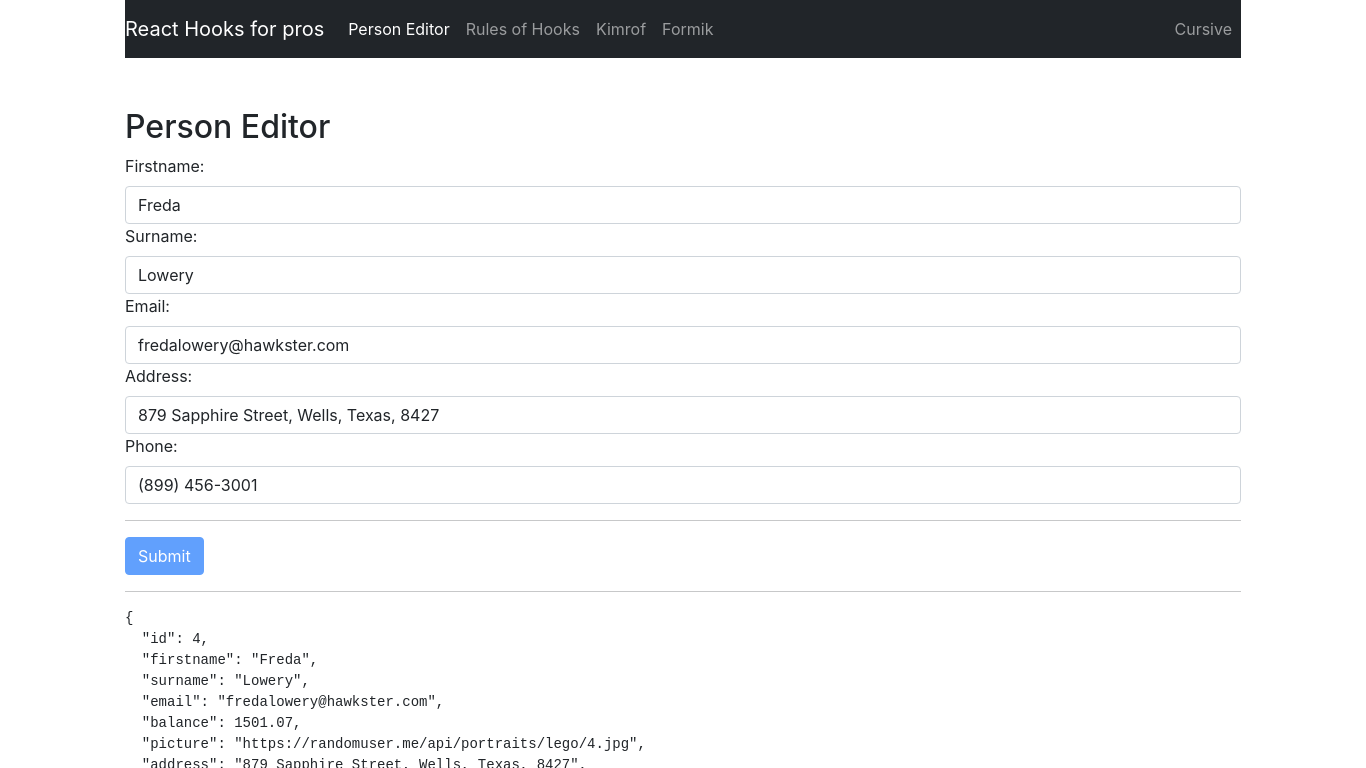
Test: The Person Editor › Can rename to Jack Sparrow
The image size is (1366, 768).
expect the text "\"surname\": \"Lowery\"," is shown: met, box [125,610,646,767]
Replace the text in the field below "Firstname:" with "Jack" at (683, 205), box [125,186,1241,224]
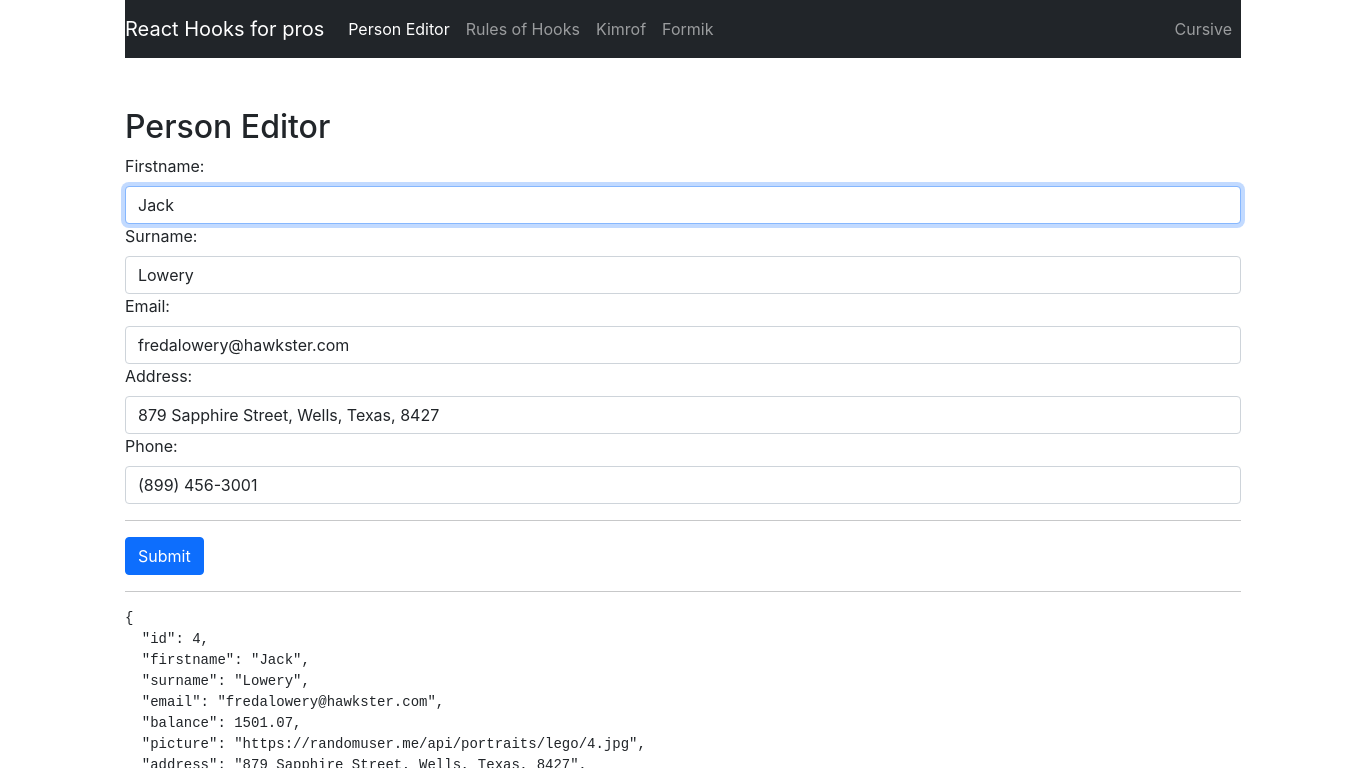
Replace the text in the field below "Surname:" with "Sparrow" at (683, 275), box [125,256,1241,294]
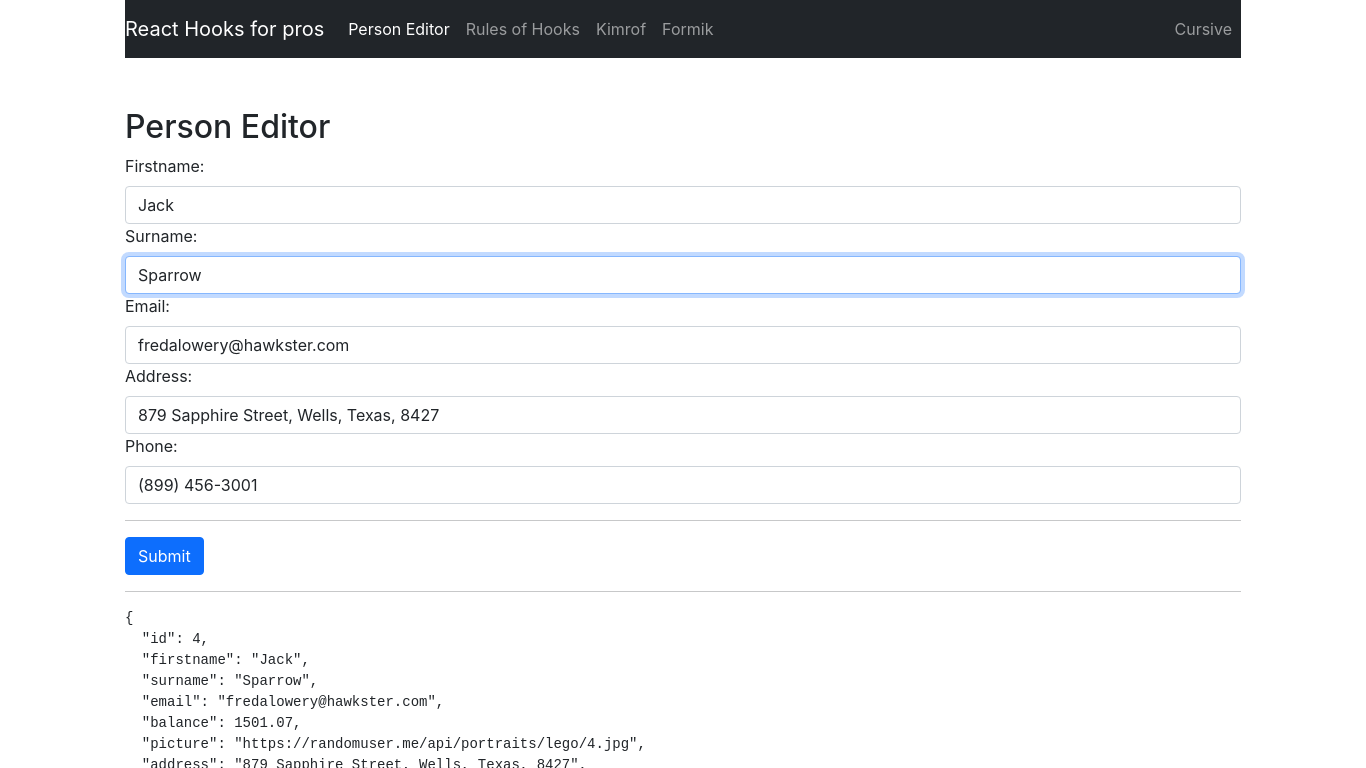
expect the text "\"surname\": \"Sparrow\"," is shown: met, box [125,610,646,767]
